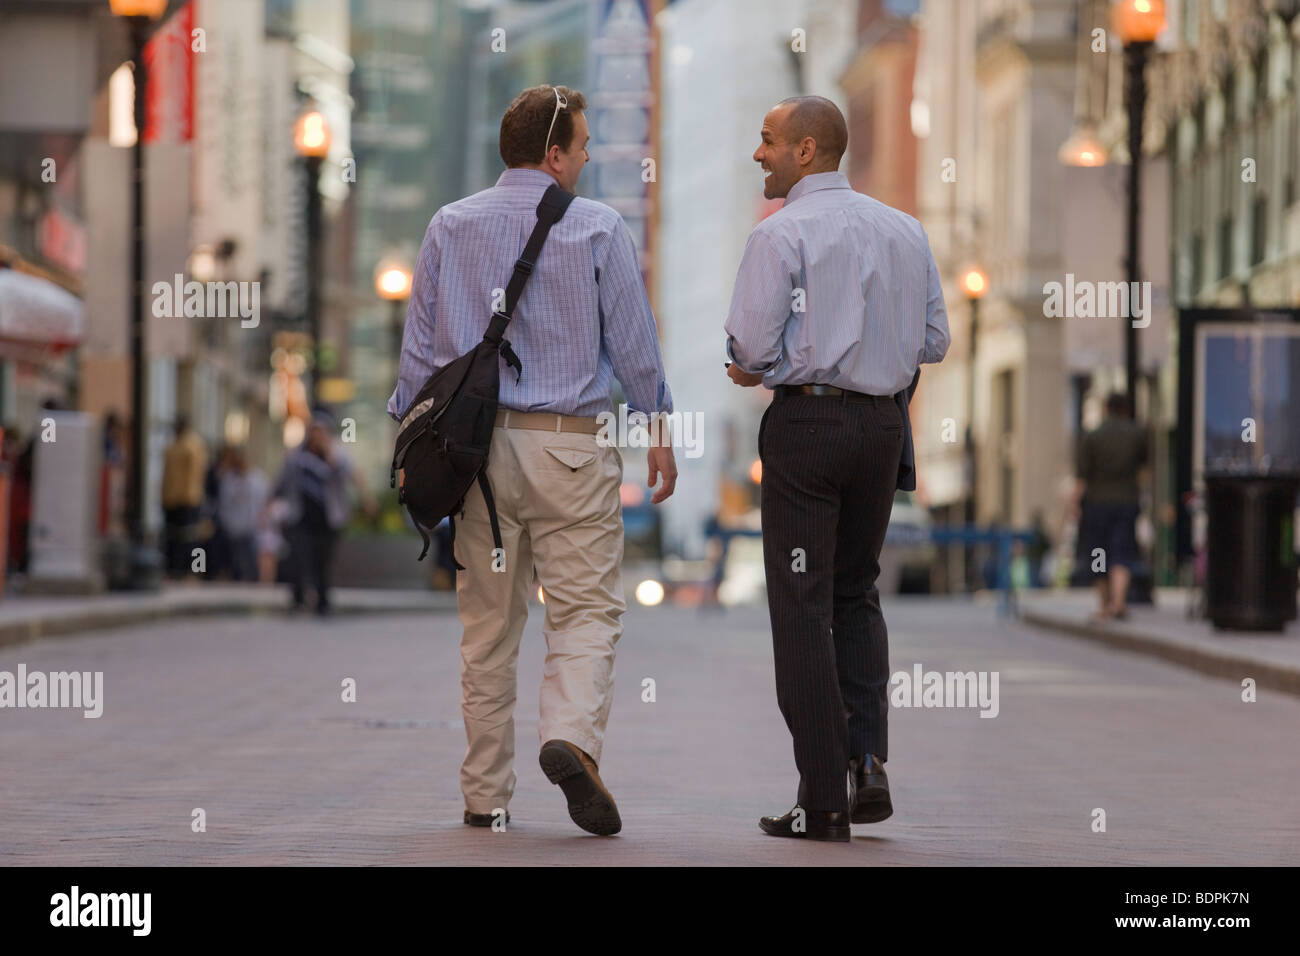person: (387, 86, 672, 832), (729, 98, 949, 842)
